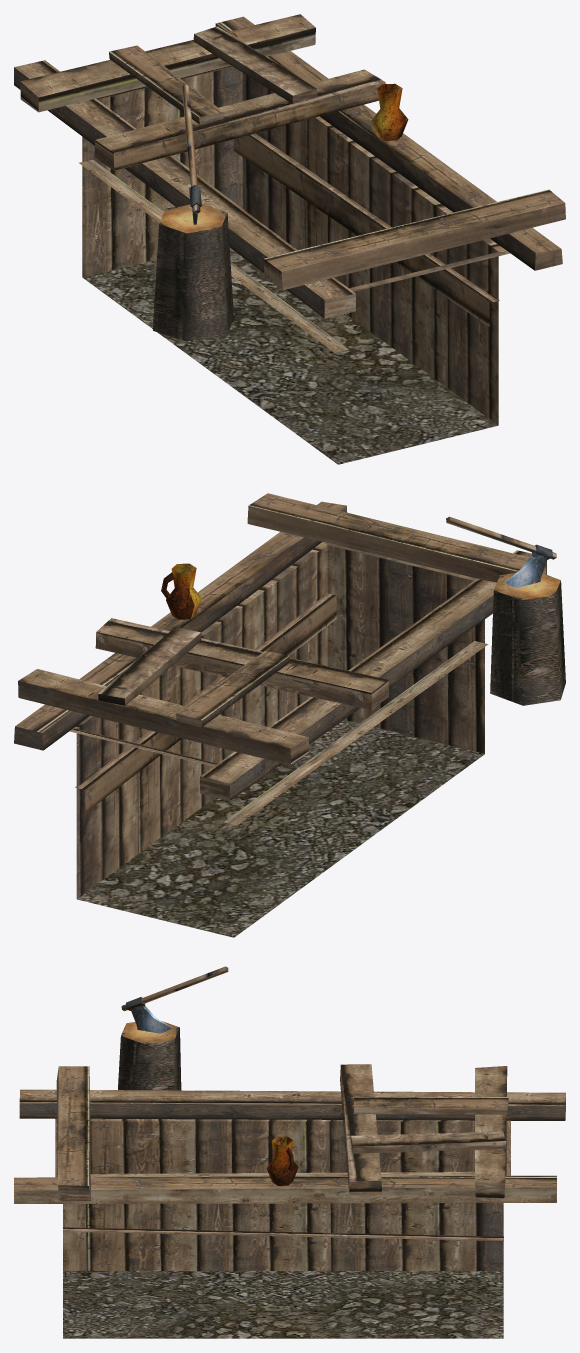
The model's file is building_saw_pit.glb.
The picture shows the model from 3 angles, top to bottom: view 1: azimuth 30°, elevation 25°; view 2: azimuth 150°, elevation 25°; view 3: azimuth 270°, elevation 25°; orthographic projection. The views are drawn at different scales.
Parts seen in each view (by area): view 1: building_saw_pit; view 2: building_saw_pit; view 3: building_saw_pit.
Boxes of the visible parts, left/top/right/bottom form: building_saw_pit: left=14, top=14, right=565, bottom=464; building_saw_pit: left=14, top=493, right=565, bottom=937; building_saw_pit: left=14, top=966, right=565, bottom=1338.
Bounding box in the file's own units: 3.23 × 2.81 × 5.01.
7 materials, 7 textured.
